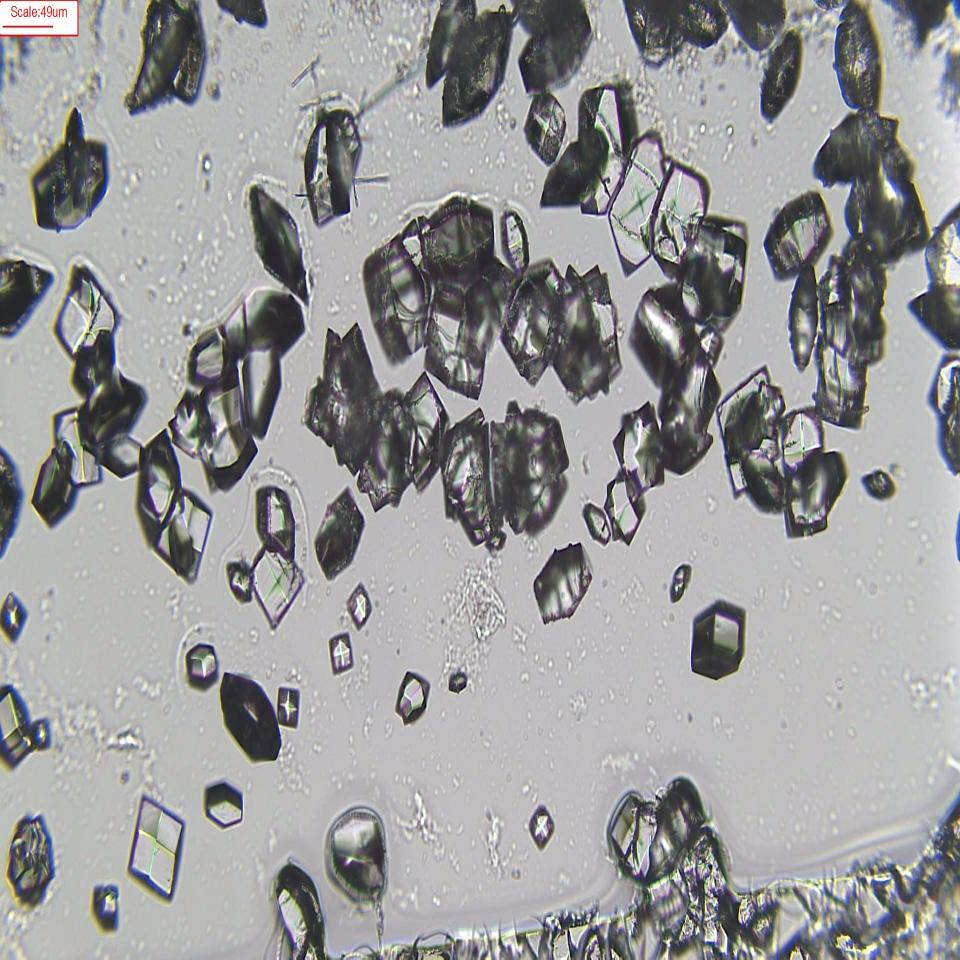crystal: (241, 176, 324, 302), (28, 130, 118, 227), (126, 782, 190, 897), (300, 104, 363, 220), (217, 670, 287, 763), (764, 192, 832, 277), (757, 22, 806, 138), (530, 542, 592, 624), (8, 811, 60, 908), (689, 596, 744, 682), (316, 487, 364, 583), (524, 89, 568, 168), (605, 474, 647, 548), (200, 778, 250, 834), (259, 491, 298, 559), (0, 686, 33, 765), (499, 210, 532, 272), (182, 635, 218, 688), (396, 663, 430, 719), (0, 592, 32, 647), (90, 878, 121, 931), (324, 635, 358, 675), (581, 500, 611, 545), (528, 800, 556, 847), (345, 582, 373, 626), (276, 679, 301, 728), (863, 464, 894, 500), (227, 562, 255, 601), (670, 558, 691, 606), (30, 720, 56, 755), (447, 670, 471, 694)
not_crystal: (485, 414, 564, 523), (168, 388, 251, 480), (321, 329, 375, 464)
